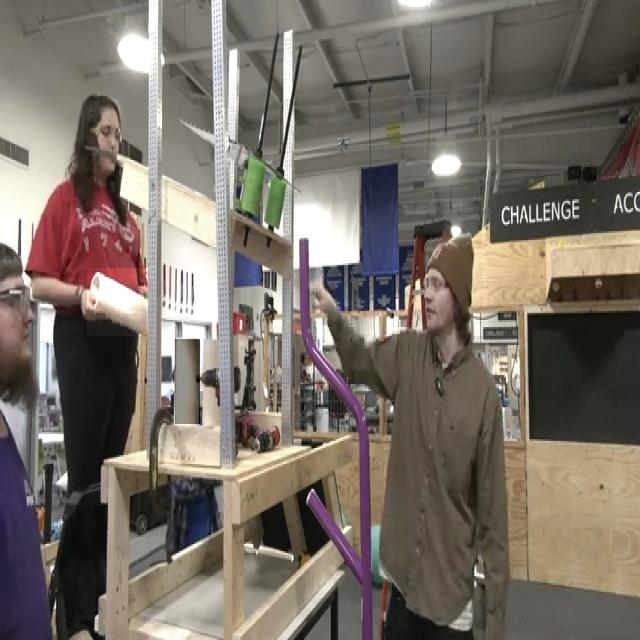Coral: (87, 268, 148, 336), (175, 339, 200, 424)
